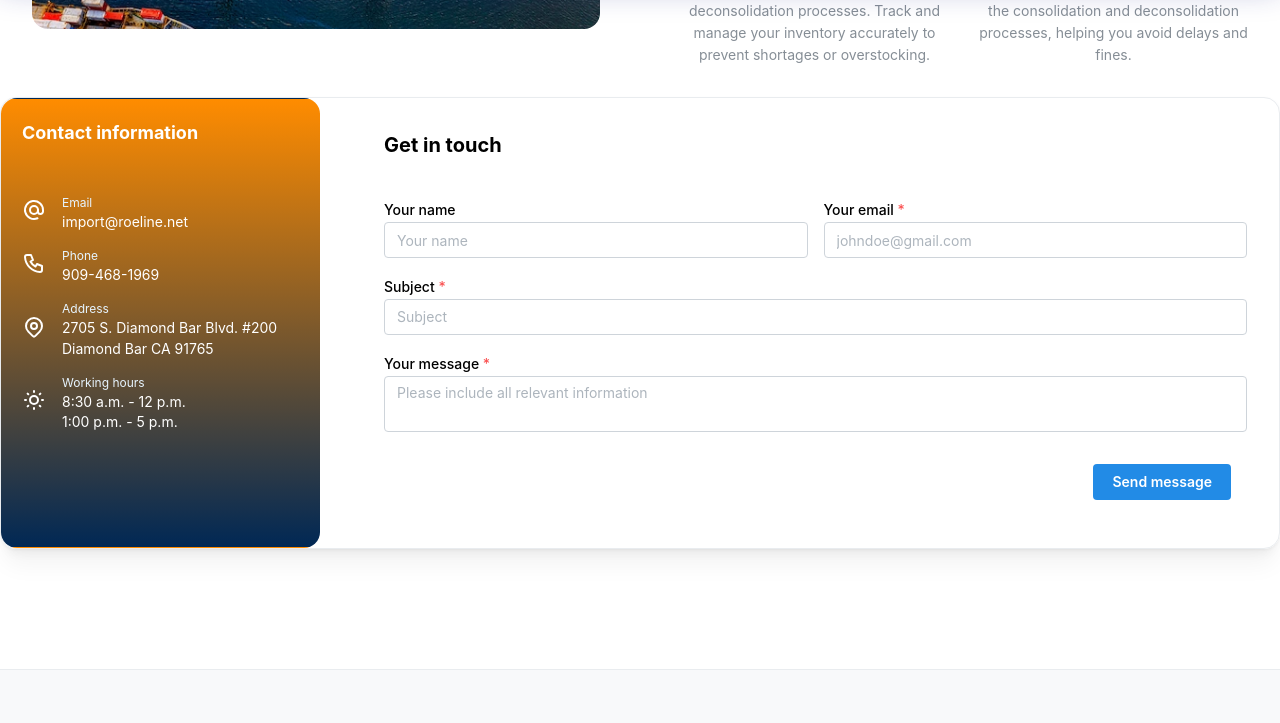
Scenario: Form Testing › should display error messages upon typing and then exiting a field
The image size is (1280, 723).
(page scrolled)
Type "a" into the field with id "name" at (596, 240), box [384, 222, 808, 258]
Leave the field with id "name", box [384, 222, 808, 258]
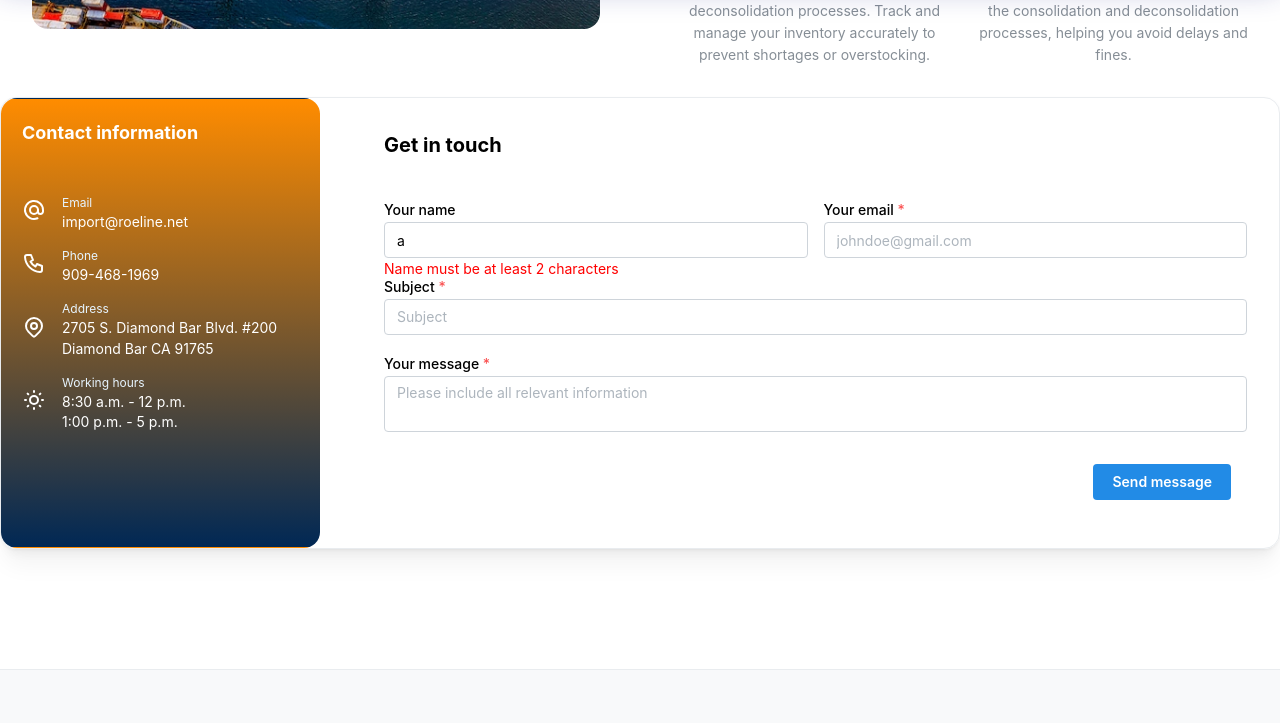
Check: the message "Name must be at least 2 characters" is shown, box [384, 258, 619, 280]
Type "a" into the field with id "email" at (1036, 240), box [824, 222, 1248, 258]
Leave the field with id "email", box [824, 222, 1248, 258]
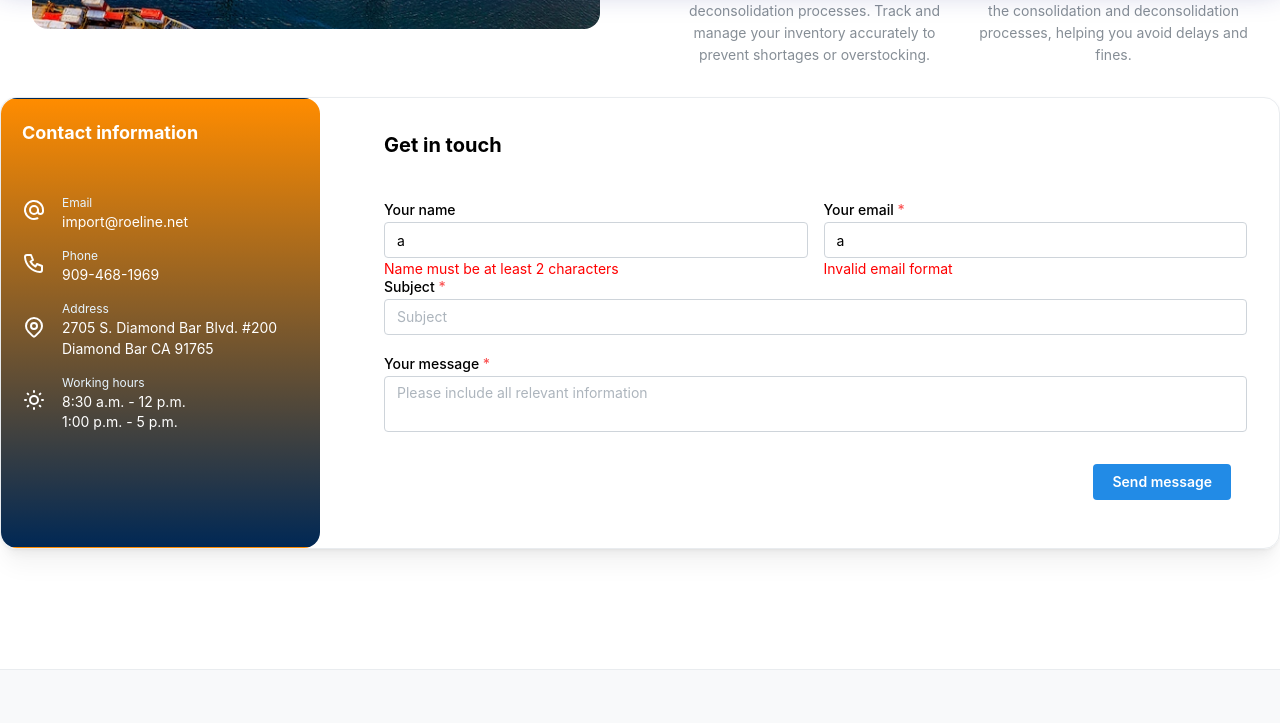
Check: the message "Invalid email format" is shown, box [824, 258, 953, 280]
Type "a" into the field with id "subject" at (816, 317), box [384, 299, 1247, 335]
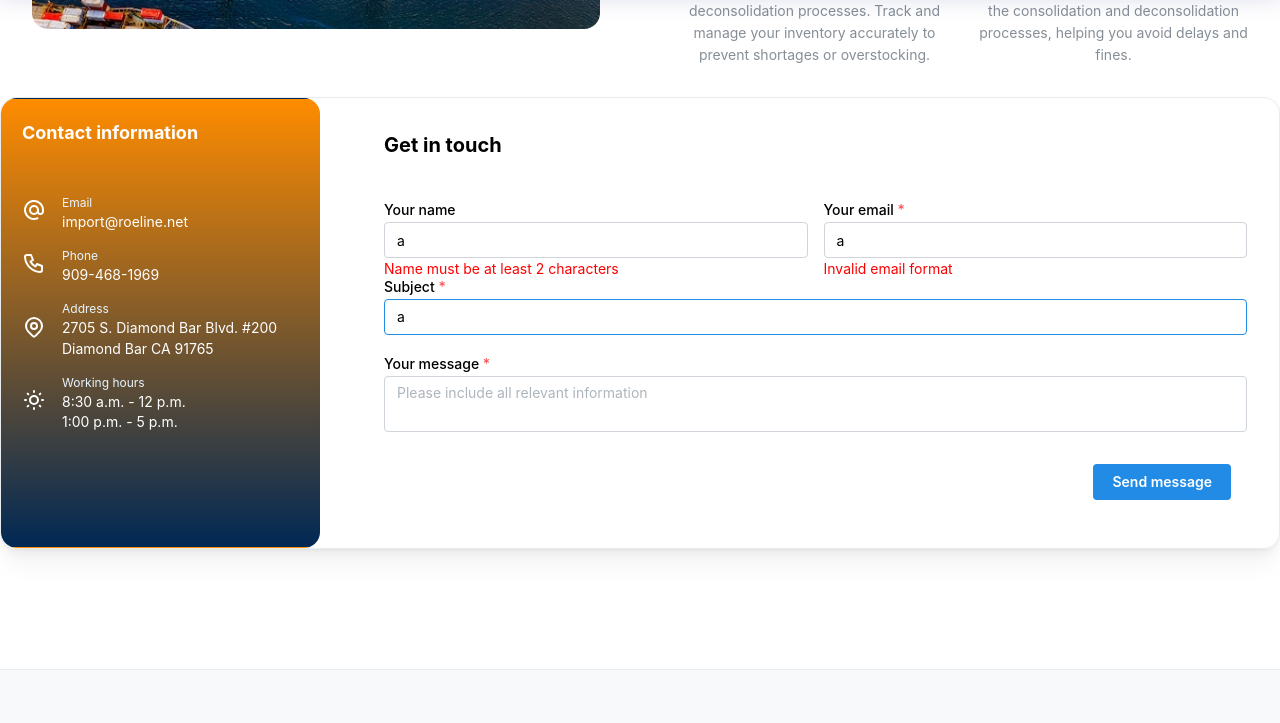
Leave the field with id "subject", box [384, 299, 1247, 335]
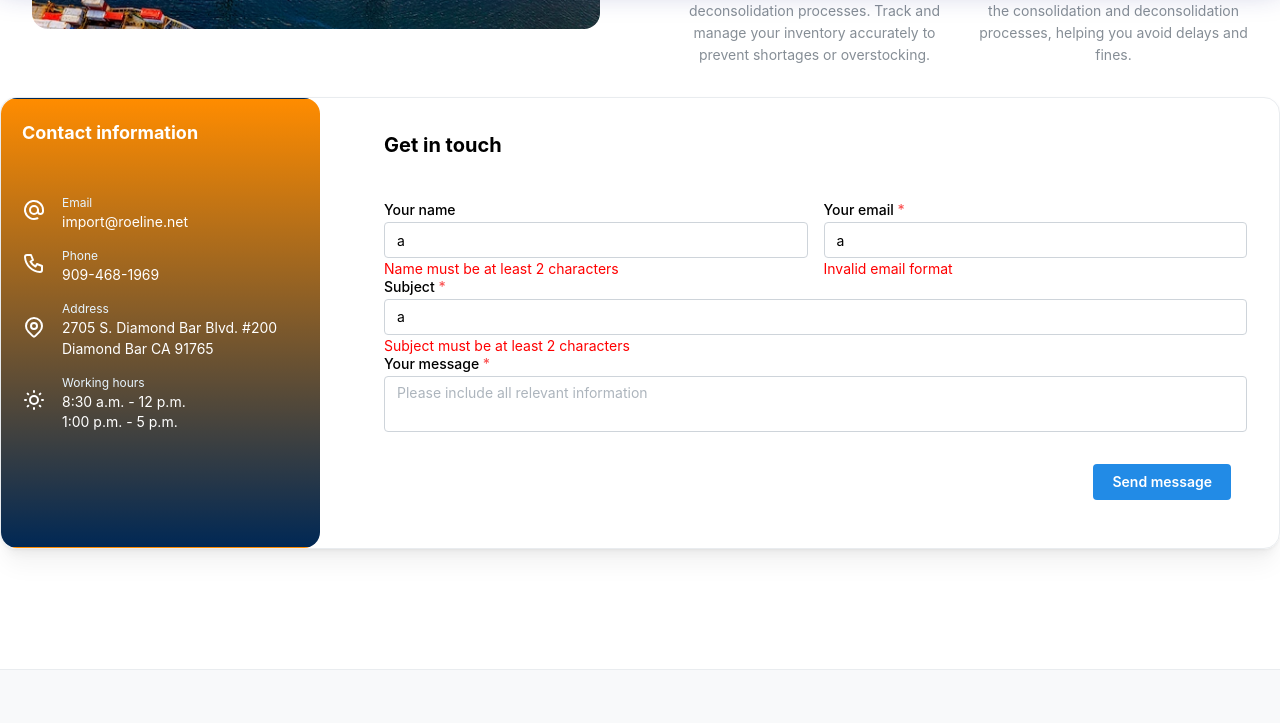
Check: the message "Subject must be at least 2 characters" is shown, box [384, 335, 630, 357]
Type "a" into the text box with id "message" at (816, 404), box [384, 376, 1247, 432]
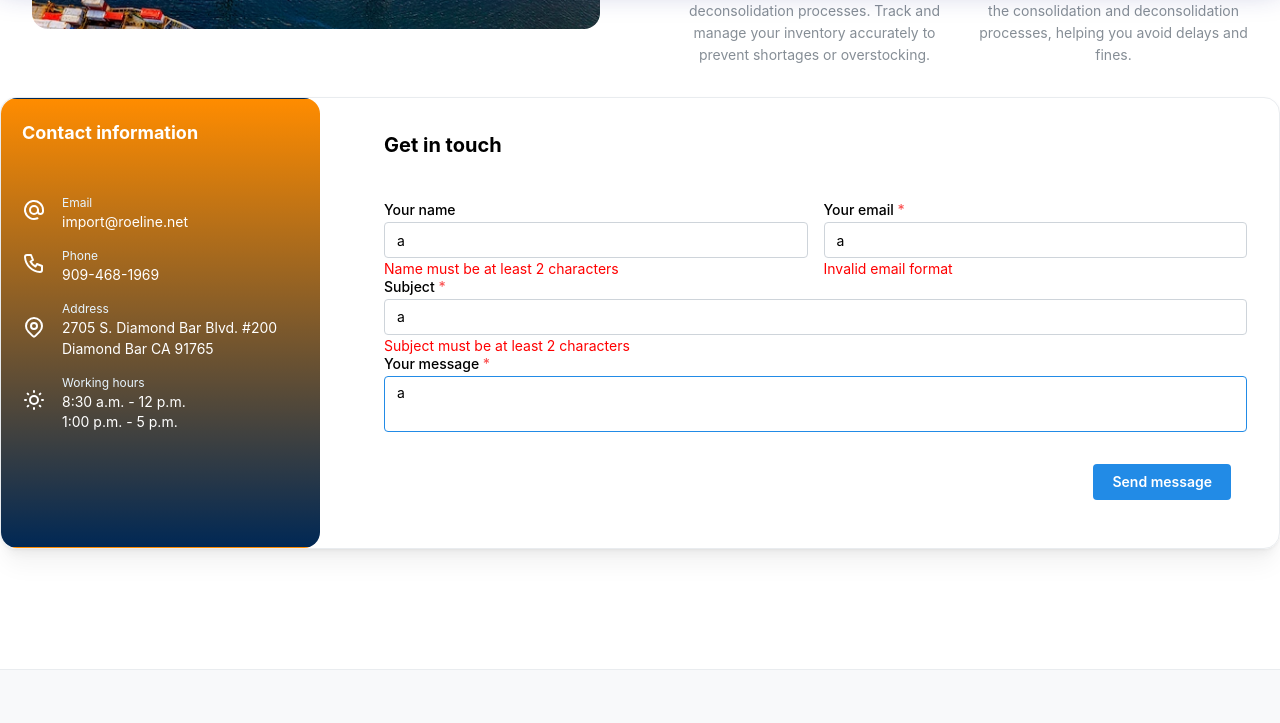
Leave the text box with id "message", box [384, 376, 1247, 432]
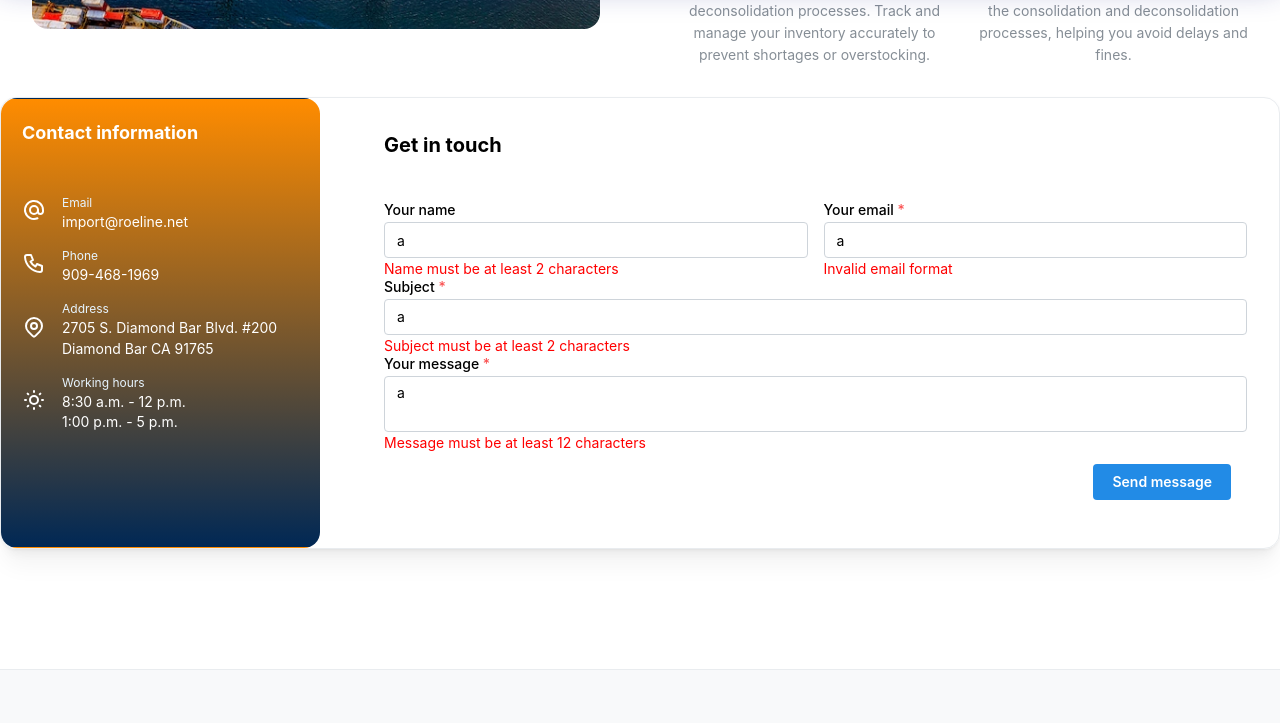
Check: the message "Message must be at least 12 characters" is shown, box [384, 432, 646, 454]
